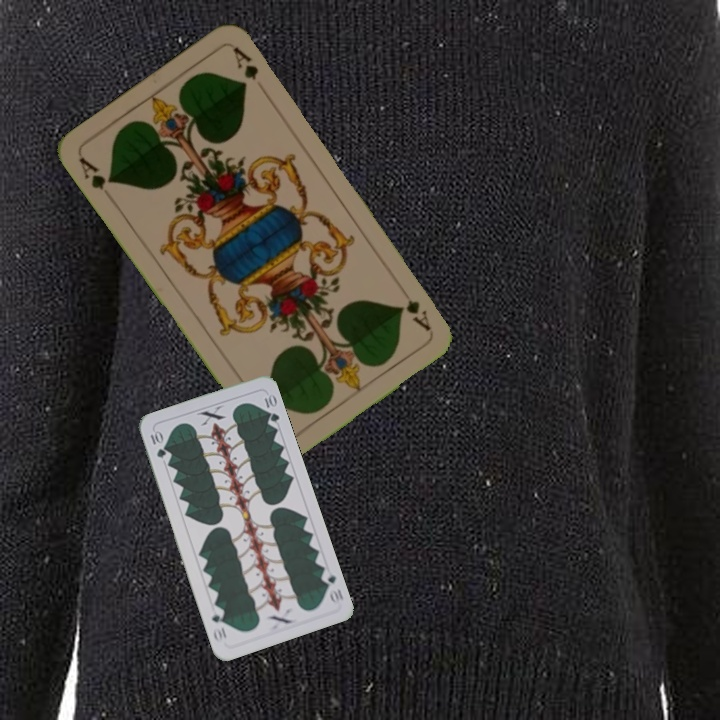G10: (317, 566, 346, 607), (146, 427, 168, 461)
GA: (74, 153, 117, 193), (401, 295, 434, 334)
